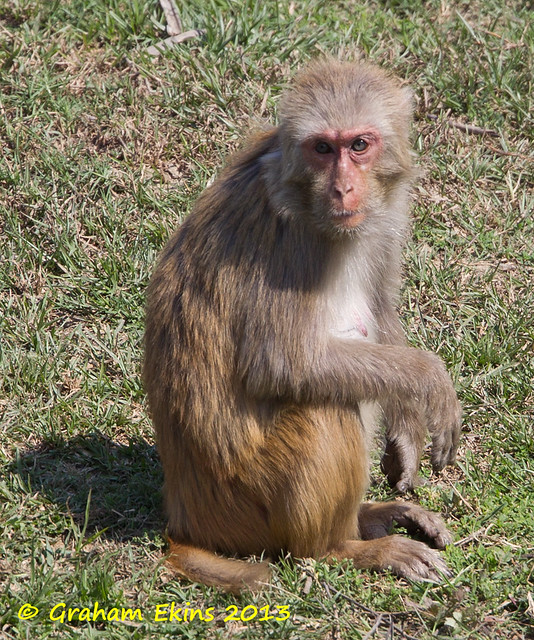monkey: (145, 53, 458, 589)
